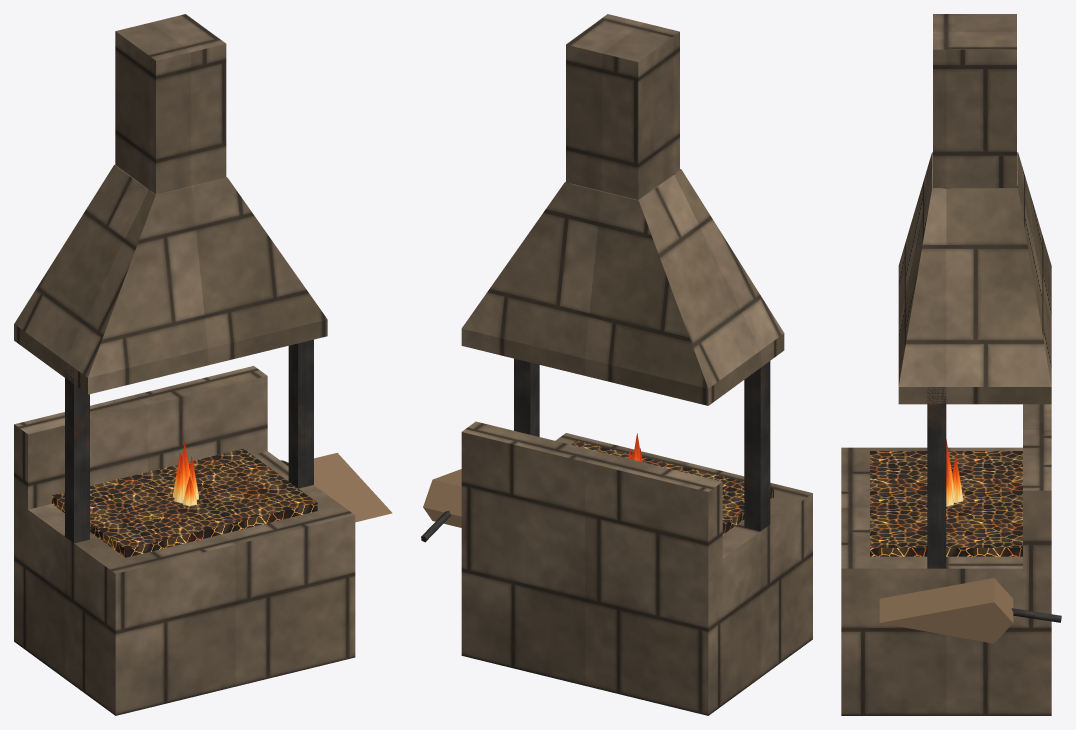
Rendered from forge.gltf.
3 views of the same model, side by side, from view 1: azimuth 30°, elevation 25°; view 2: azimuth 150°, elevation 25°; view 3: azimuth 270°, elevation 25° (orthographic). The views are drawn at different scales.
Visible parts, largest first — view 1: forge_mesh; view 2: forge_mesh; view 3: forge_mesh.
Part boxes in pixels (<box>): forge_mesh: <box>14,14,392,715</box>; forge_mesh: <box>421,14,812,715</box>; forge_mesh: <box>841,14,1061,715</box>.
Size of what is drawn, in the model's own units: 1.85 by 3.6 by 1.15.
5 materials, 4 textured.
